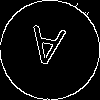A: (25, 25, 66, 76)
